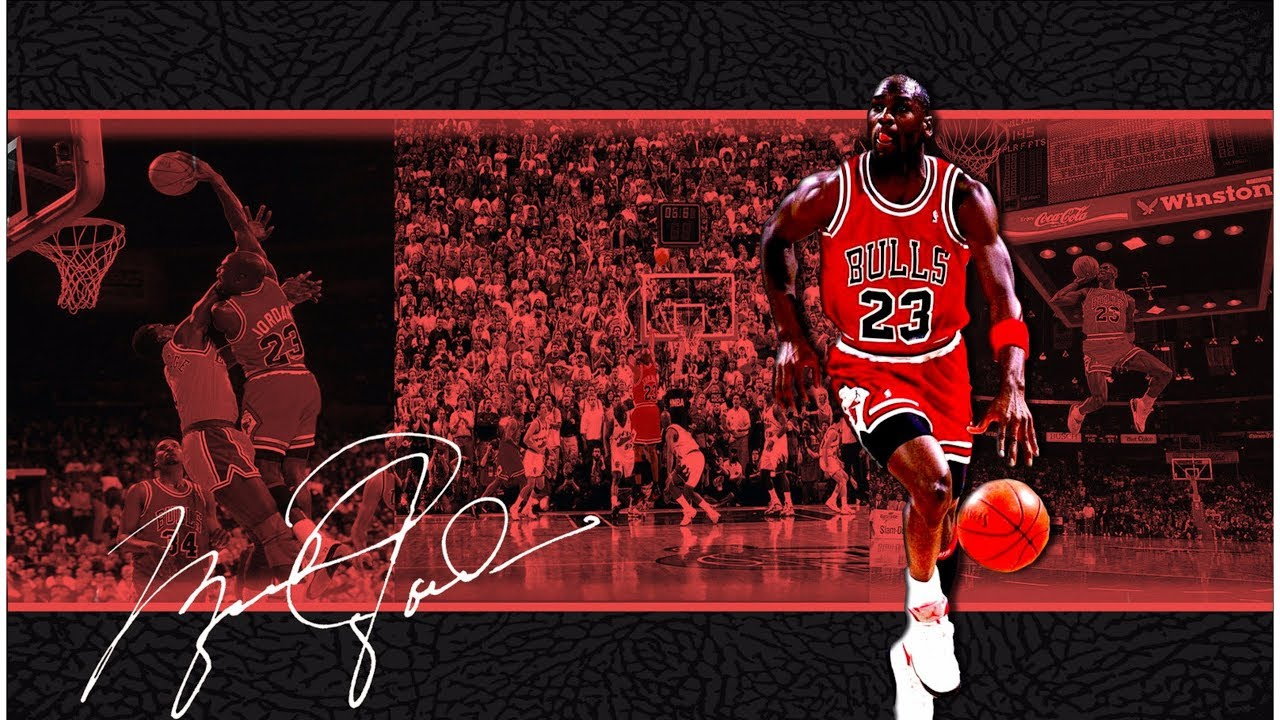ball: (951, 469, 1066, 588)
shoot: (139, 136, 340, 500)
